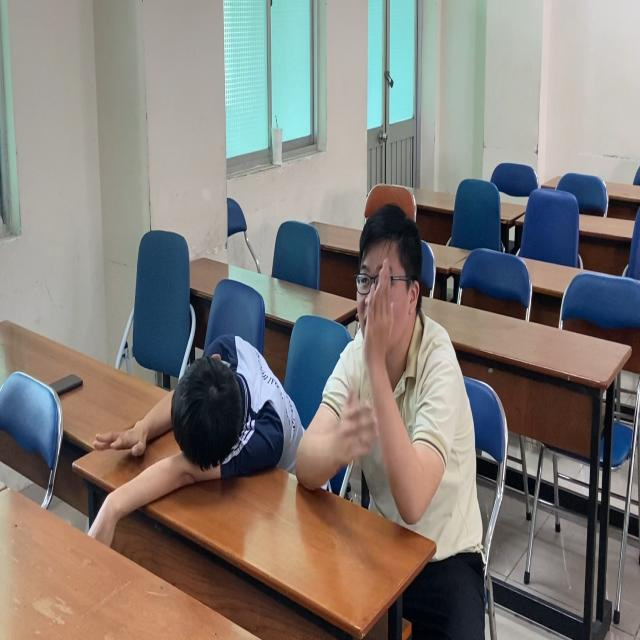raise_hand: (327, 204, 464, 531)
sleep: (92, 333, 319, 513)
